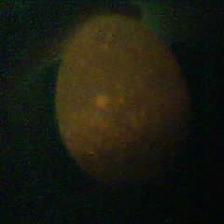fertile: (53, 11, 190, 193)
